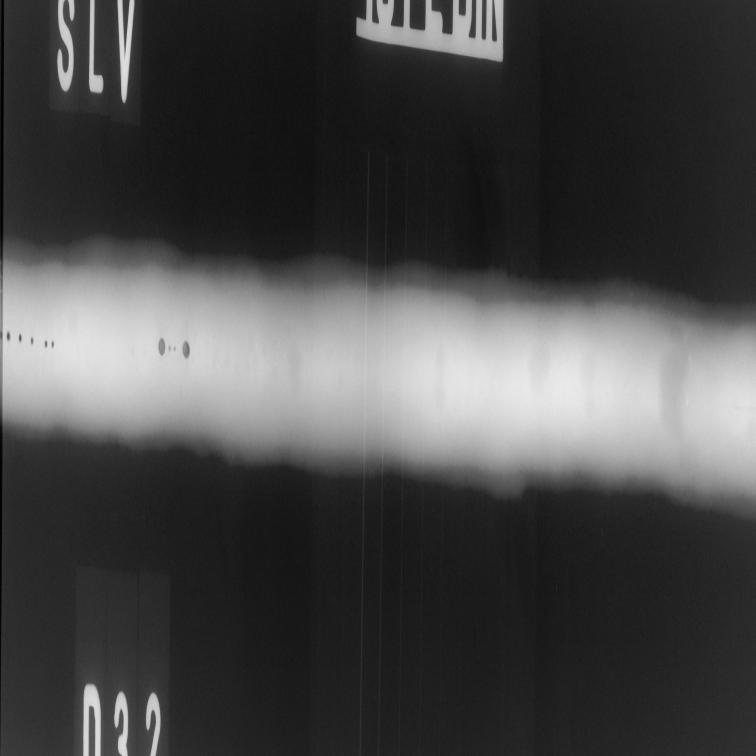FP: (510, 321, 615, 423), (644, 336, 704, 446), (429, 342, 466, 421)
PO: (197, 324, 305, 397), (181, 335, 192, 362), (157, 332, 166, 362), (29, 328, 35, 352), (43, 335, 49, 357), (50, 333, 55, 354), (18, 328, 23, 348), (6, 327, 11, 344), (173, 342, 177, 355), (168, 339, 171, 356)
